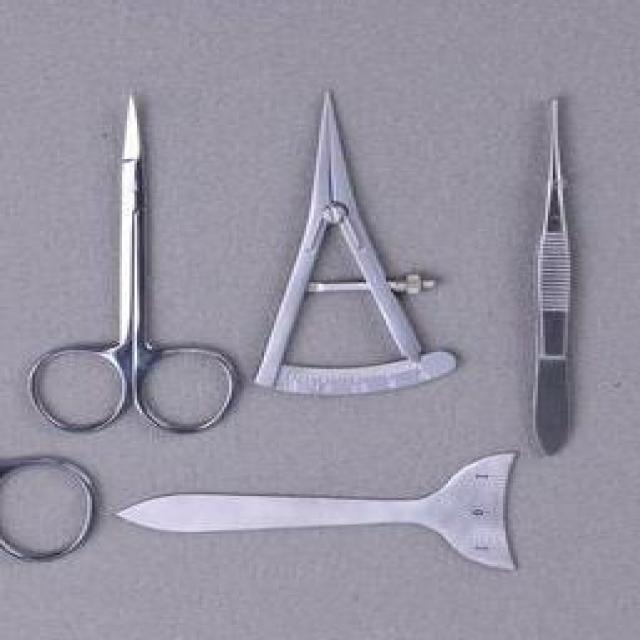Forceps: (528, 91, 583, 460)
Iris: (25, 90, 249, 440)
